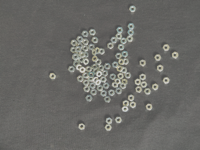nut: (129, 5, 137, 13), (144, 88, 152, 95), (115, 117, 123, 124), (68, 66, 76, 73), (172, 52, 179, 59), (163, 44, 170, 51), (163, 77, 170, 84), (152, 84, 159, 91), (146, 104, 153, 111), (140, 74, 147, 81), (140, 60, 147, 67), (135, 79, 142, 86), (136, 86, 143, 93), (128, 95, 135, 102), (130, 102, 137, 109), (123, 100, 130, 107), (122, 106, 129, 113), (106, 118, 113, 125), (128, 23, 135, 30), (128, 29, 135, 36), (118, 44, 125, 51), (122, 51, 129, 58), (117, 27, 124, 34), (116, 33, 123, 40), (116, 53, 123, 60), (119, 59, 126, 66), (125, 72, 132, 79), (117, 66, 124, 73), (112, 62, 119, 69), (118, 73, 125, 80), (120, 83, 127, 90), (116, 88, 123, 95), (115, 78, 122, 85), (110, 74, 117, 81), (104, 96, 111, 103), (104, 63, 111, 70), (102, 70, 109, 77), (97, 85, 104, 92), (92, 37, 99, 44), (89, 29, 96, 36), (95, 79, 102, 86), (86, 95, 93, 102), (84, 86, 91, 93), (79, 67, 86, 74), (76, 64, 83, 71), (83, 58, 90, 65), (77, 36, 84, 43), (75, 46, 82, 53), (71, 40, 78, 47), (50, 73, 57, 80), (109, 89, 115, 97), (95, 47, 101, 55), (89, 43, 95, 51), (155, 55, 162, 61), (158, 65, 164, 72), (141, 82, 148, 88), (105, 125, 112, 131), (79, 124, 85, 131), (127, 36, 134, 42), (121, 38, 127, 45), (124, 58, 130, 65), (111, 37, 118, 43), (108, 42, 114, 49), (122, 67, 128, 74), (122, 79, 129, 85), (112, 82, 119, 88), (100, 77, 107, 83), (103, 83, 110, 89), (101, 90, 107, 97), (98, 65, 105, 71), (92, 56, 99, 62), (96, 71, 102, 78), (92, 64, 98, 71), (91, 89, 97, 96), (88, 72, 95, 78), (88, 76, 95, 82), (83, 80, 90, 86), (86, 66, 92, 73), (77, 76, 84, 82), (83, 45, 89, 52), (83, 39, 89, 46), (82, 31, 89, 37), (80, 51, 86, 58), (73, 61, 80, 67), (73, 53, 79, 60), (96, 59, 102, 65), (93, 77, 99, 83), (93, 69, 99, 75), (90, 83, 96, 89), (83, 73, 89, 79), (83, 52, 89, 58), (79, 57, 85, 63), (77, 50, 83, 56), (77, 43, 83, 49), (71, 47, 77, 53), (100, 48, 105, 55), (92, 49, 97, 56)
